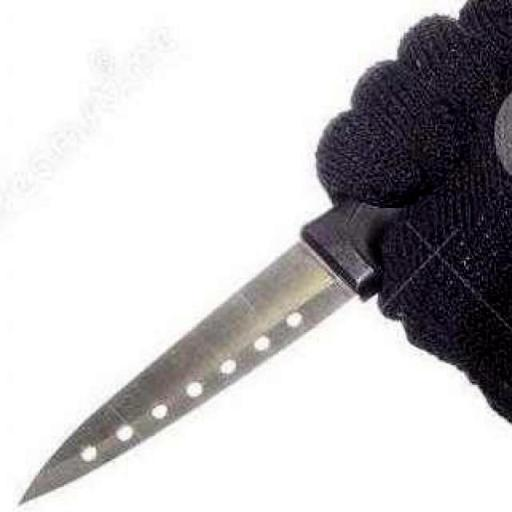knife: (16, 51, 512, 509)
